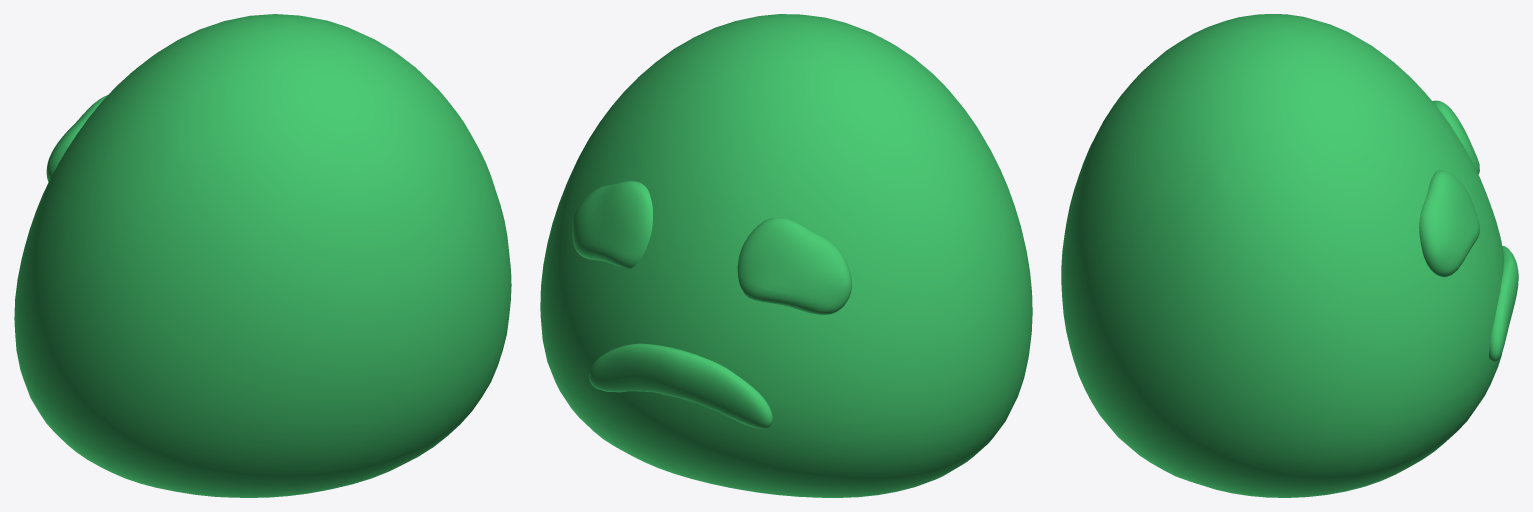
Rendered from Slime.fbx.
3 renders of one model, left to right at view 1: azimuth 30°, elevation 25°; view 2: azimuth 150°, elevation 25°; view 3: azimuth 270°, elevation 25°, orthographic. The views are drawn at different scales.
Visible parts, largest first — view 1: slimeBody_low, slimeEyeIZQ_low; view 2: slimeBody_low, slimeEyeIZQ_low, slimeMouth_low, slimeEyeDER_low; view 3: slimeBody_low, slimeEyeDER_low, slimeMouth_low, slimeEyeIZQ_low.
Boxes of the visible parts, left/top/right/bottom form: slimeBody_low: left=14, top=14, right=511, bottom=497; slimeEyeIZQ_low: left=46, top=95, right=107, bottom=181; slimeBody_low: left=540, top=14, right=1032, bottom=497; slimeEyeIZQ_low: left=737, top=217, right=851, bottom=314; slimeMouth_low: left=589, top=343, right=772, bottom=429; slimeEyeDER_low: left=572, top=181, right=652, bottom=268; slimeBody_low: left=1061, top=14, right=1504, bottom=497; slimeEyeDER_low: left=1419, top=170, right=1479, bottom=277; slimeMouth_low: left=1489, top=246, right=1518, bottom=362; slimeEyeIZQ_low: left=1432, top=100, right=1479, bottom=174.
Bounding box in the file's own units: 2.84 × 2.59 × 2.63.
